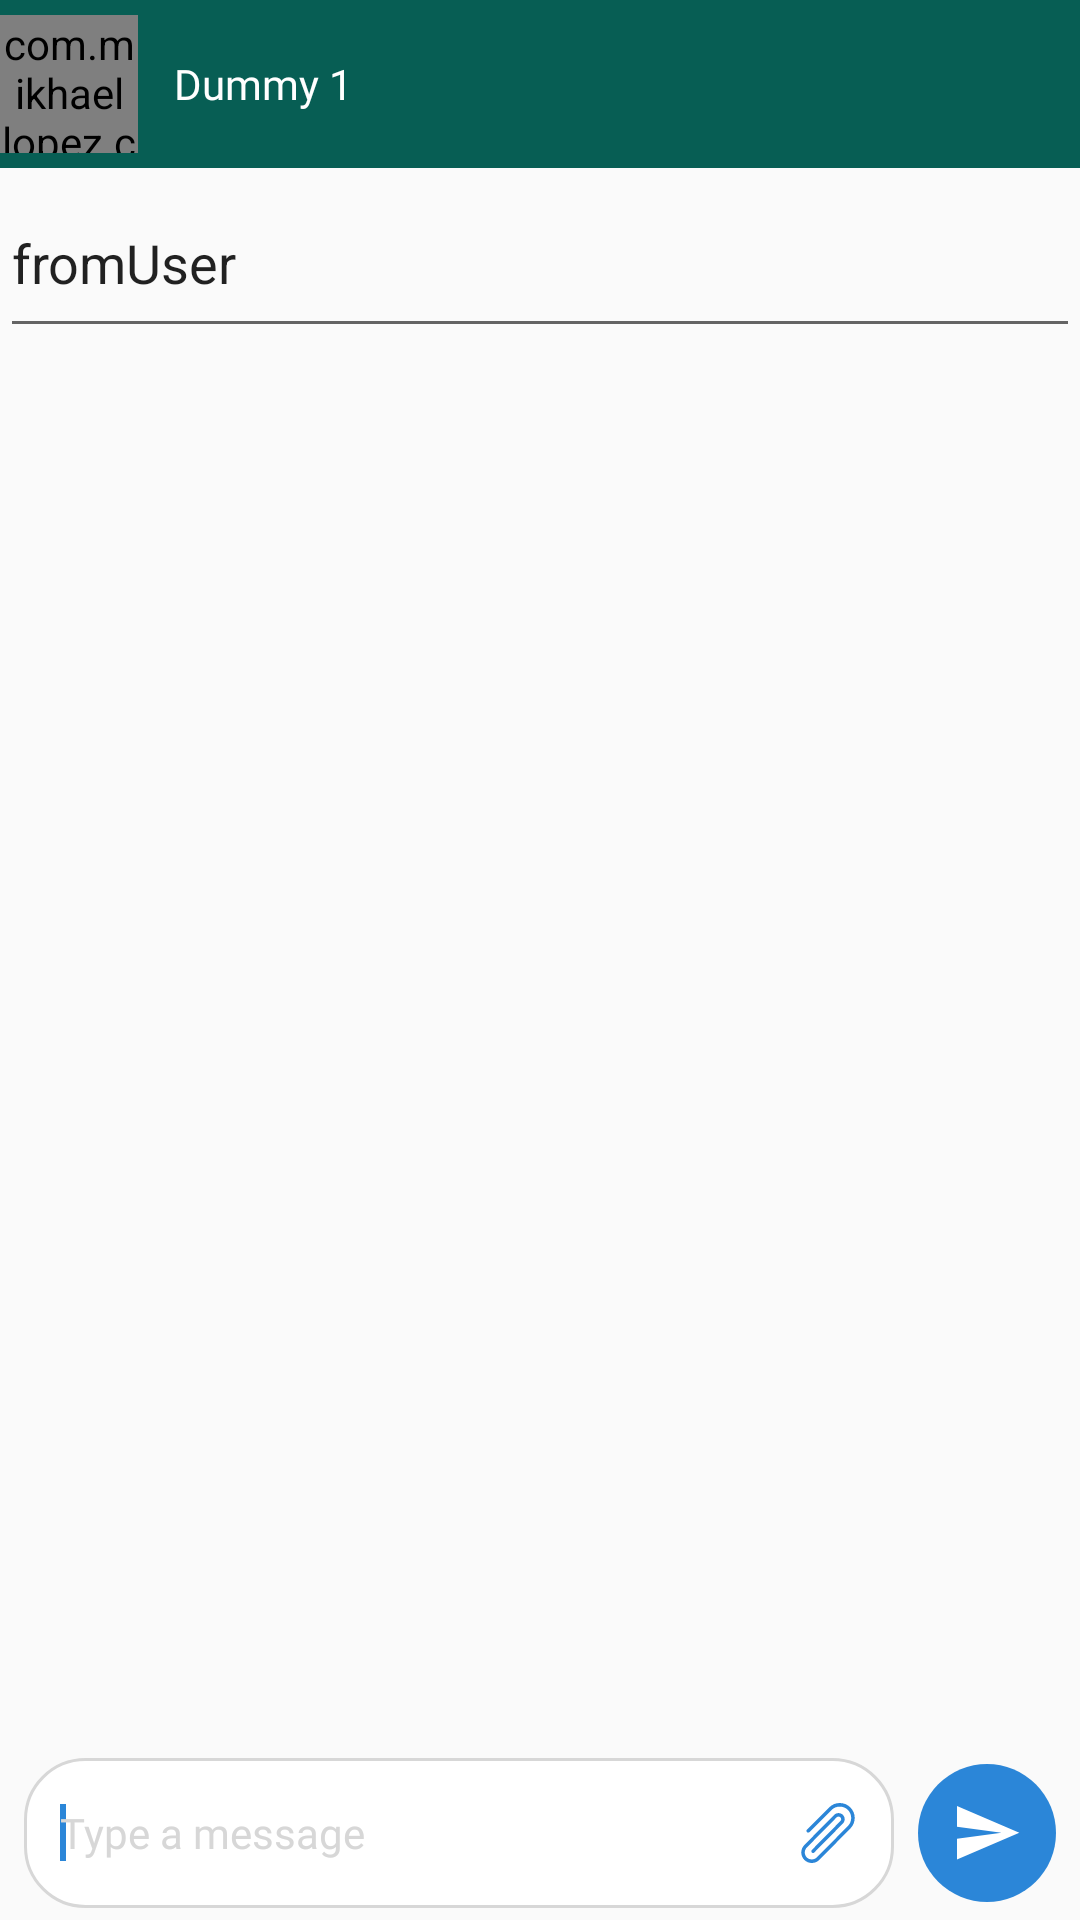

Icons on this 1080w x 1920h Android screen, each with the point to tap as (x,y):
multimedia attach: (828,1833)
post: (987,1833)
